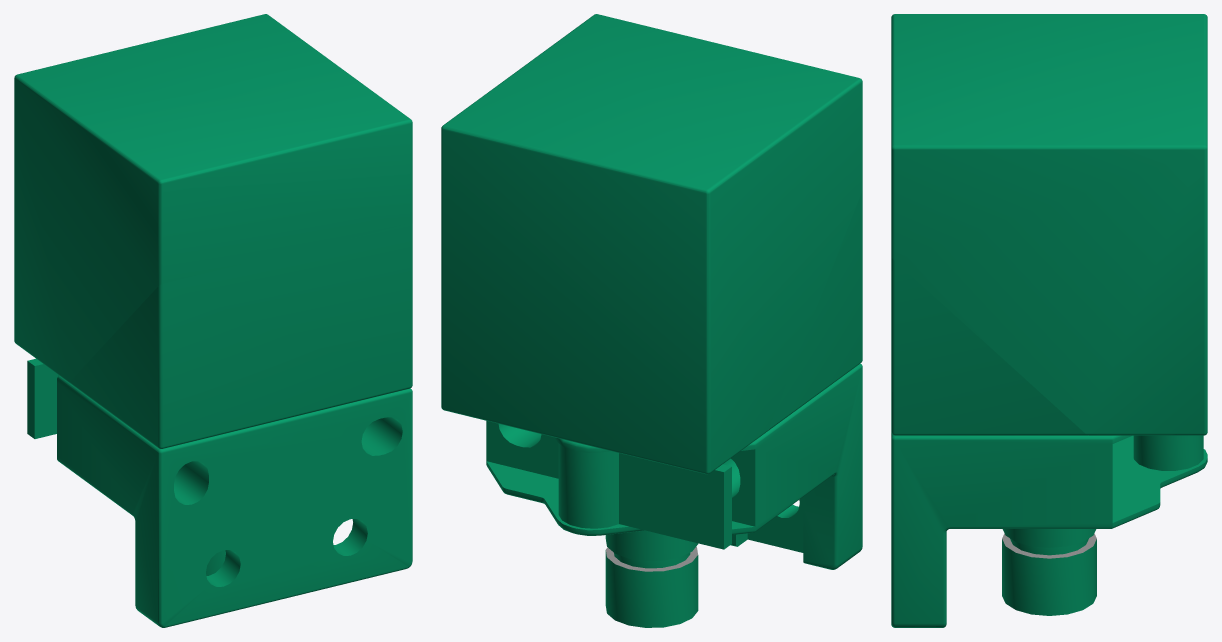
The model's file is NRB20-L3-E2-IO-V1.dae.
3 views of the same model, side by side, from view 1: azimuth 30°, elevation 25°; view 2: azimuth 150°, elevation 25°; view 3: azimuth 270°, elevation 25° (orthographic). The views are drawn at different scales.
Parts seen in each view (by area): view 1: _Inductive_sensor10004202_0, _Inductive_sensor10004204_0, _Inductive_sensor10004203_0; view 2: _Inductive_sensor10004202_0, _Inductive_sensor10004204_0, _Inductive_sensor10004203_0; view 3: _Inductive_sensor10004202_0, _Inductive_sensor10004204_0, _Inductive_sensor10004203_0.
Part boxes in pixels (box(x1,y1,x2,y2)): _Inductive_sensor10004202_0: box(14, 14, 412, 382); _Inductive_sensor10004204_0: box(27, 358, 412, 627); _Inductive_sensor10004203_0: box(69, 223, 412, 575); _Inductive_sensor10004202_0: box(441, 14, 862, 474); _Inductive_sensor10004204_0: box(486, 363, 862, 569); _Inductive_sensor10004203_0: box(605, 191, 862, 627); _Inductive_sensor10004202_0: box(891, 14, 1207, 435); _Inductive_sensor10004204_0: box(891, 433, 1207, 627); _Inductive_sensor10004203_0: box(891, 257, 1096, 615).
Bounding box in the file's own units: 40 × 72 × 40.
